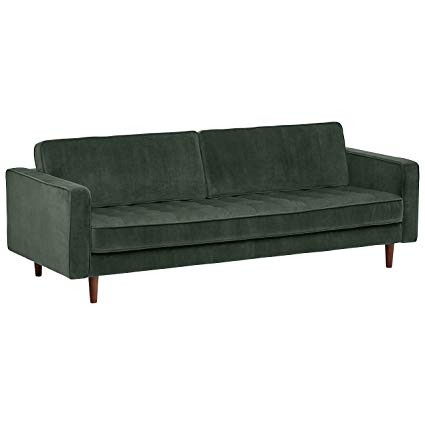chairs: (8, 118, 425, 305)
